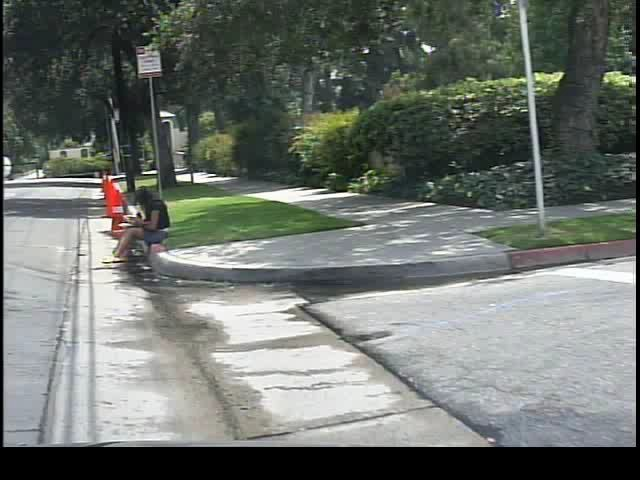person: (98, 183, 177, 267)
